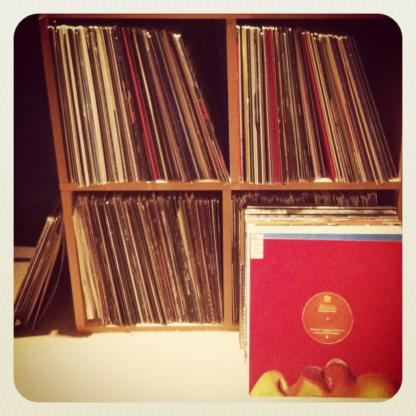book: (241, 204, 400, 396), (56, 23, 237, 184), (236, 22, 400, 181), (70, 190, 224, 326), (232, 190, 378, 324), (11, 196, 70, 340)
